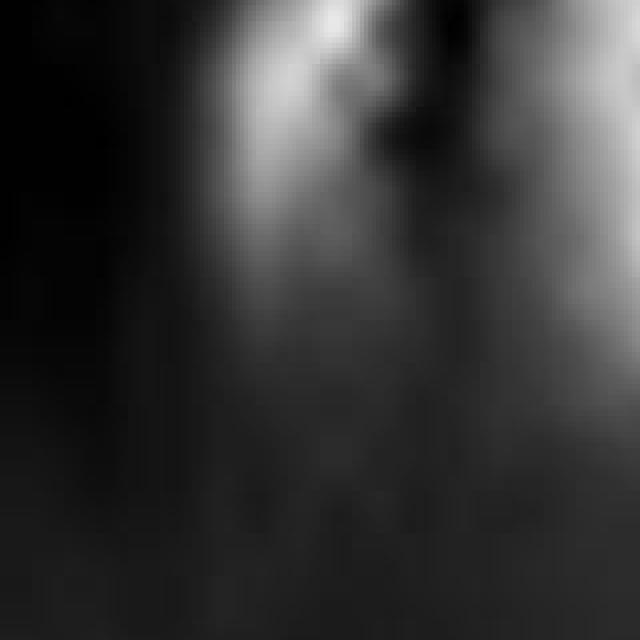person: (181, 1, 421, 433), (509, 1, 640, 550)
